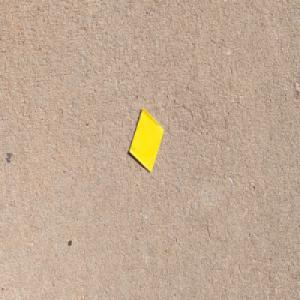PlasticPart: (128, 106, 164, 173)
